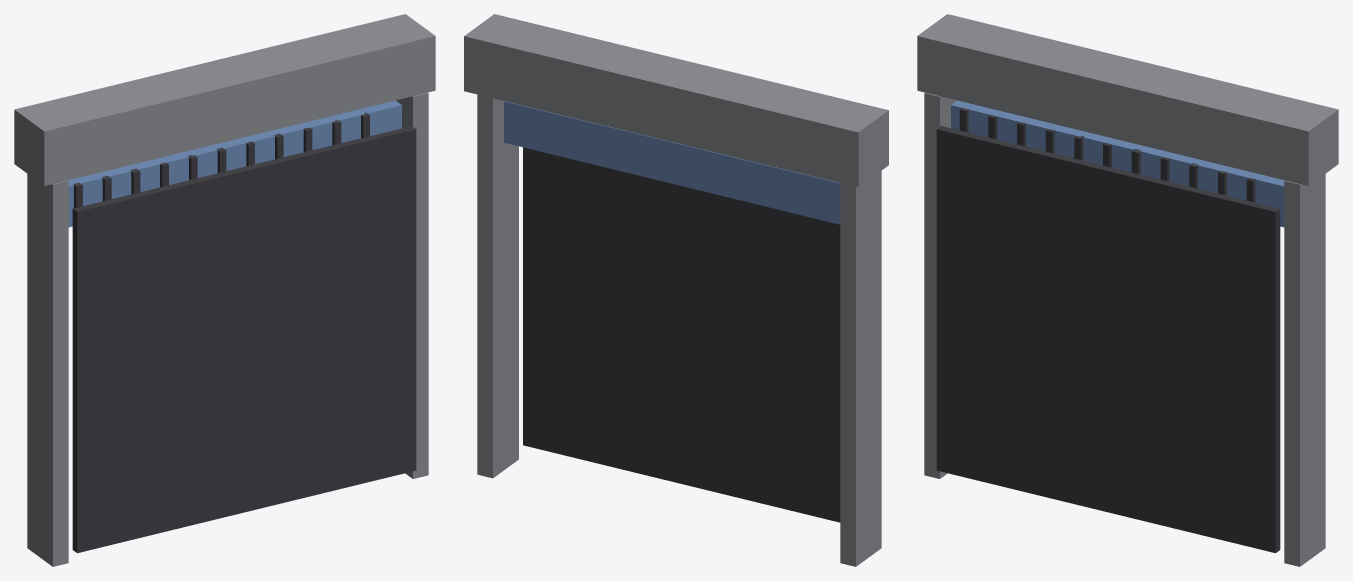
The model's file is prop_shutter_open.glb.
3 renders of one model, left to right at view 1: azimuth 30°, elevation 25°; view 2: azimuth 150°, elevation 25°; view 3: azimuth 330°, elevation 25°, orthographic.
Parts seen in each view (by area): view 1: shutter_open; view 2: shutter_open; view 3: shutter_open.
Boxes of the visible parts, x1,y1,x2,y2 form: shutter_open: [14, 14, 435, 566]; shutter_open: [464, 14, 888, 566]; shutter_open: [917, 14, 1338, 566].
Size of the model in its own units: 3 by 3.2 by 0.49.
